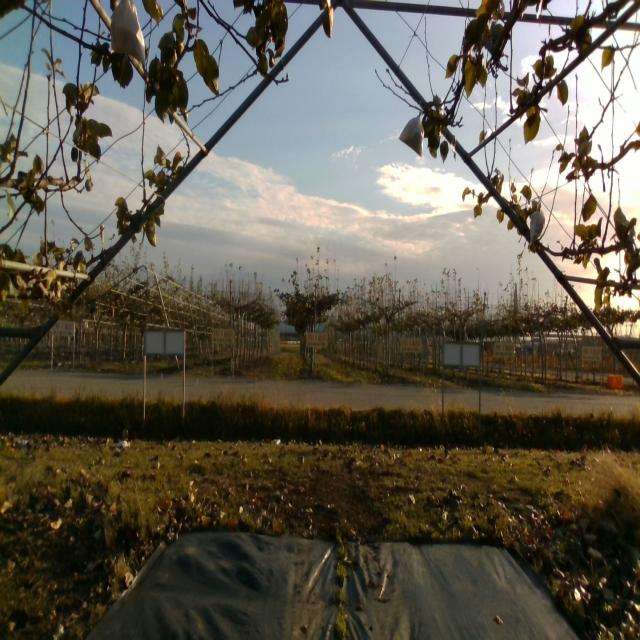pearbags: (108, 0, 150, 65), (398, 106, 426, 157), (527, 208, 547, 256)
